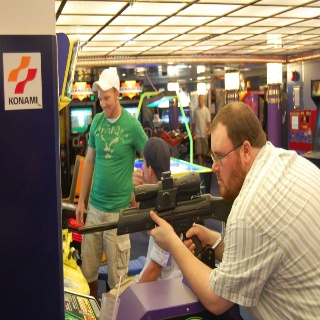rifle: (77, 170, 234, 253)
